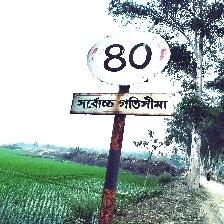Speed-limit: (74, 29, 177, 118)
